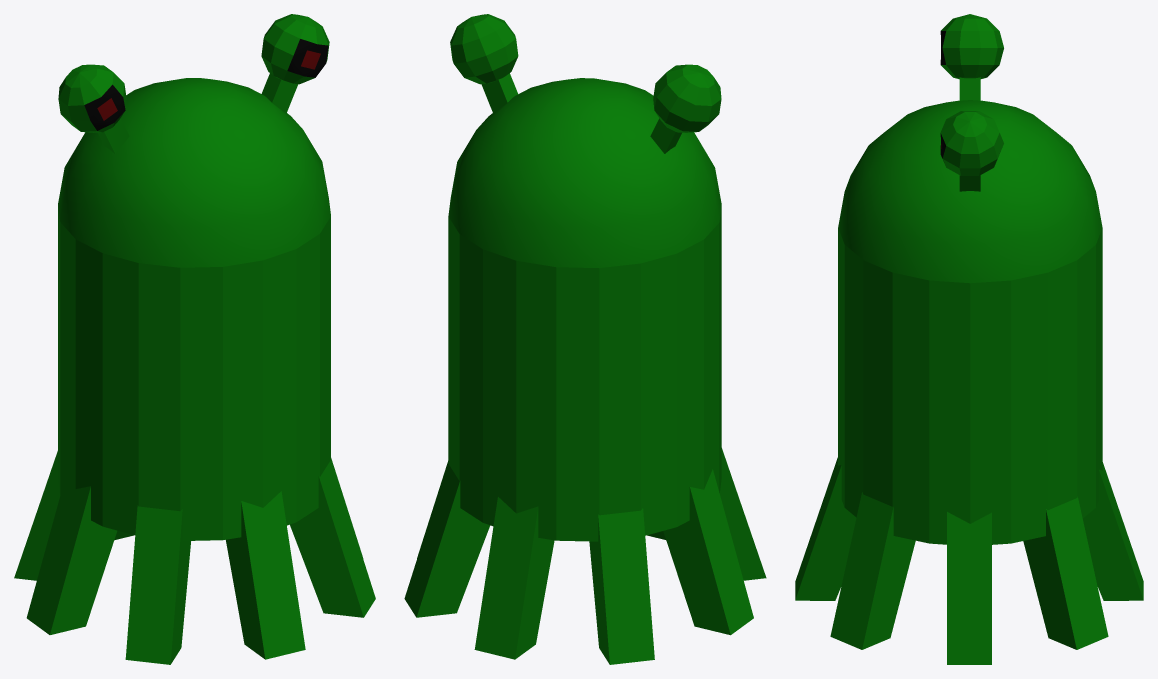
The model's file is Slime.fbx.
3 views of the same model, side by side, from view 1: azimuth 30°, elevation 25°; view 2: azimuth 150°, elevation 25°; view 3: azimuth 270°, elevation 25° (orthographic). The views are drawn at different scales.
Visible parts, largest first — view 1: Eye_and_Body, Legs; view 2: Eye_and_Body, Legs; view 3: Eye_and_Body, Legs.
Part boxes in pixels (x1,y1,x2,y2): Eye_and_Body: (58, 14, 330, 540); Legs: (14, 451, 375, 664); Eye_and_Body: (448, 14, 721, 541); Legs: (404, 448, 766, 664); Eye_and_Body: (838, 14, 1102, 544); Legs: (795, 457, 1143, 664).
Size of the model in its own units: 4.44 by 7.39 by 4.44.
